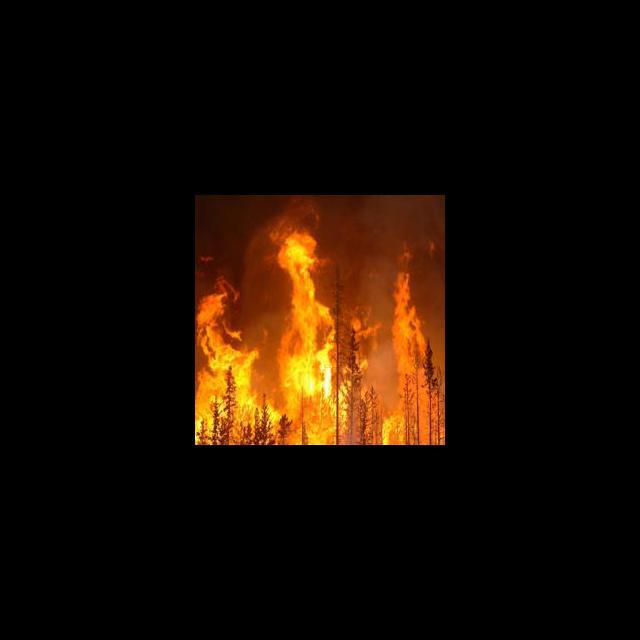Fire: (195, 218, 444, 444)
